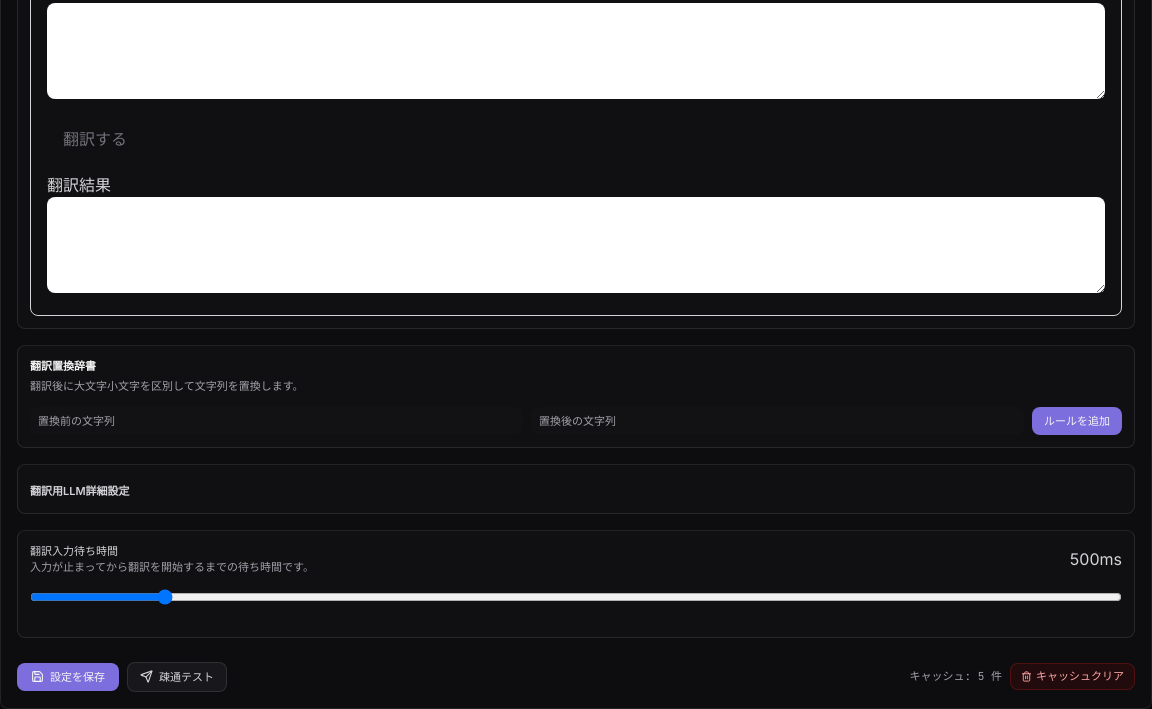
Test case: TranslationSettingsSection › clamps and saves translation debounce in 50ms increments
(page scrolled)
Set the slider labelled "翻訳入力待ち時間" to "2040": [576, 596] box [30,574,1122,618]
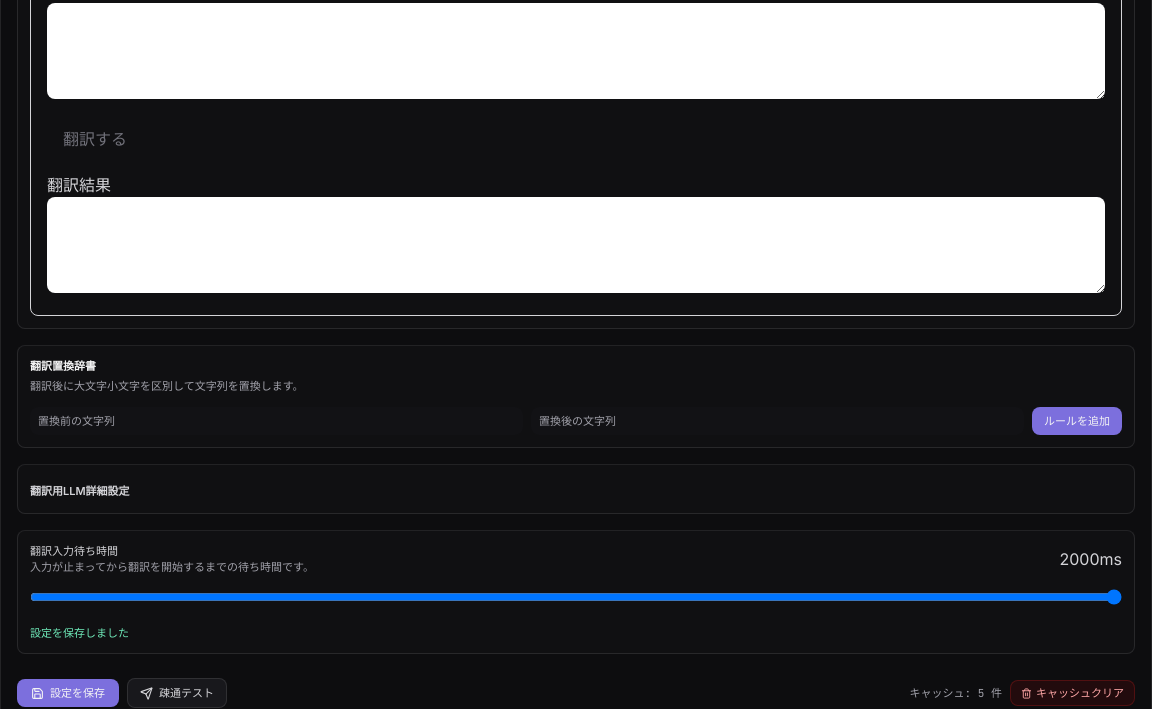
Check: the text "2000ms" is shown, box [1060,546,1122,570]
